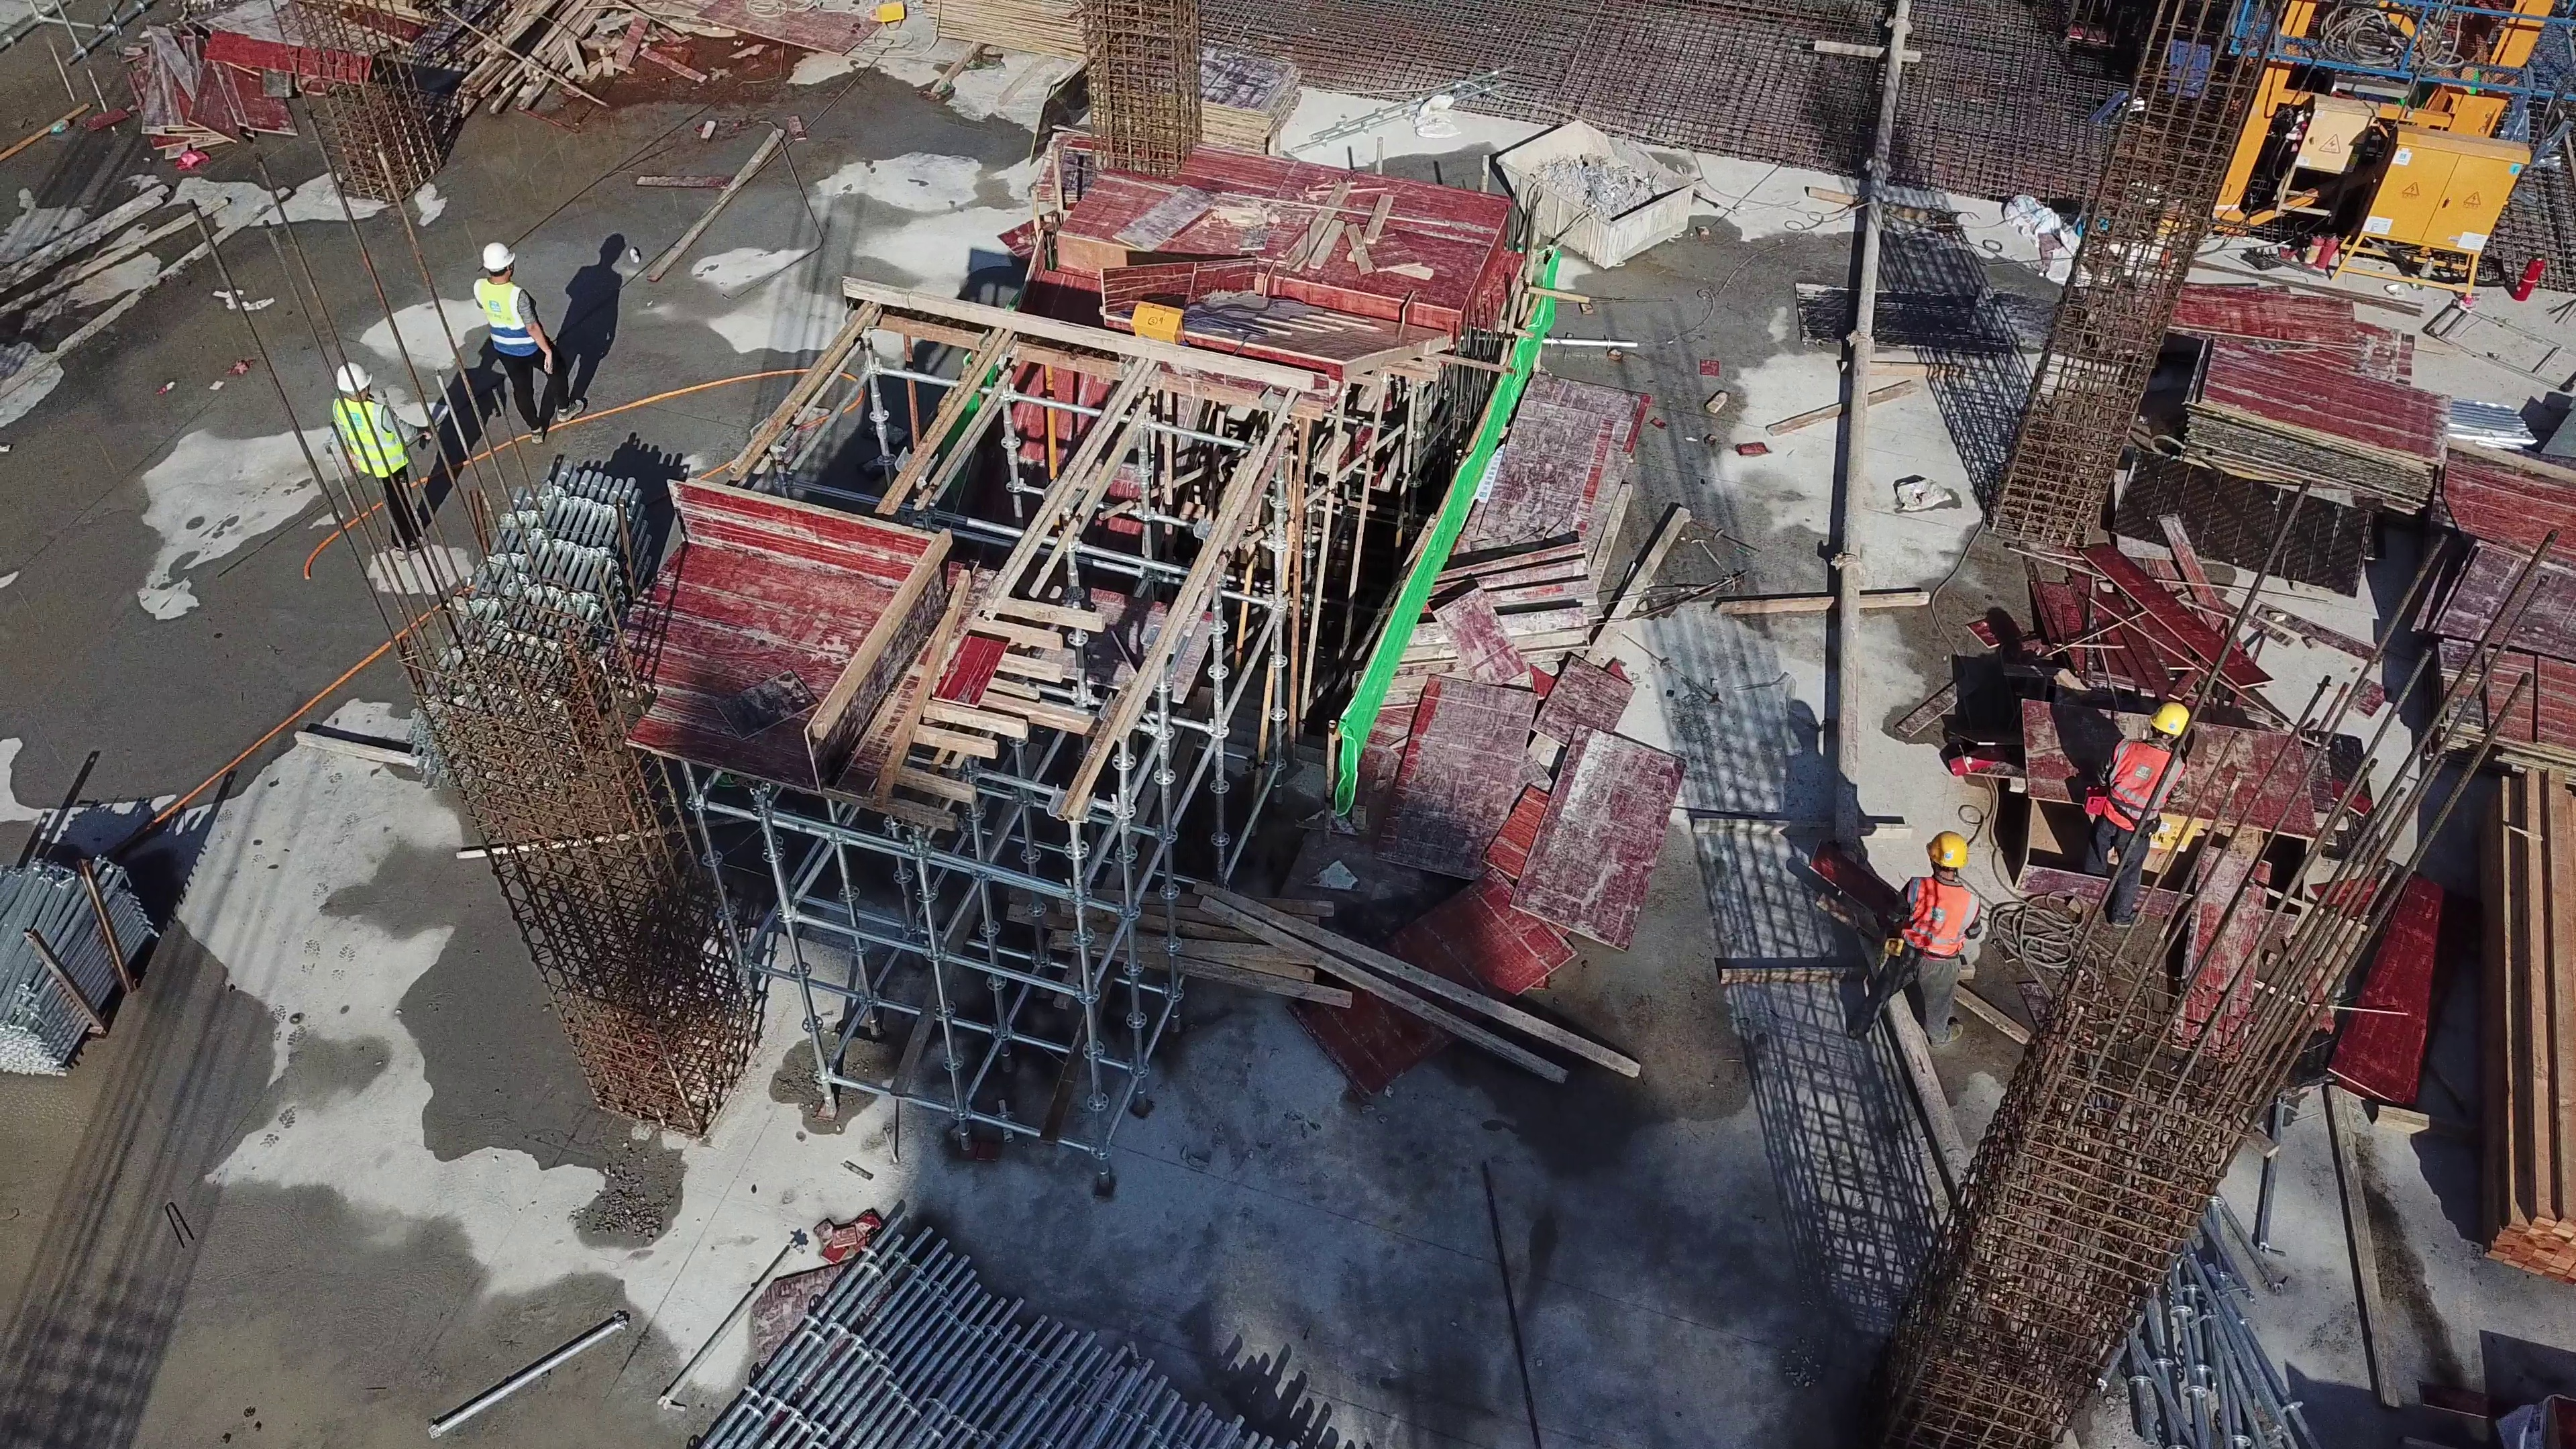board: (2192, 341, 2440, 508), (2418, 645, 2576, 763), (1203, 52, 1297, 153), (937, 3, 1091, 57)
cutter: (2019, 705, 2298, 899)
ebox: (2341, 124, 2502, 301), (2273, 89, 2353, 225)
helmet: (1925, 835, 1973, 873), (335, 363, 373, 396), (2150, 701, 2186, 735), (480, 238, 513, 272)
hopper: (1512, 129, 1680, 258)
person: (1845, 833, 1984, 1046), (2080, 702, 2187, 926), (473, 242, 586, 445), (329, 362, 434, 556)
scaffold: (687, 1220, 1246, 1449), (409, 460, 641, 798), (1, 865, 144, 1080)
vest: (2109, 741, 2175, 829), (335, 398, 407, 476), (1904, 878, 1966, 955), (472, 280, 536, 352)
wood: (2487, 766, 2572, 1270)
